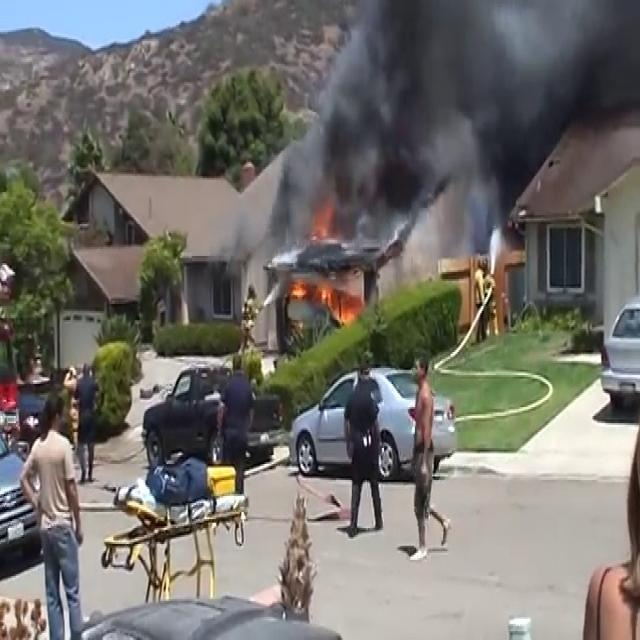Fire: (285, 268, 359, 324)
Smoke: (278, 0, 528, 265), (467, 0, 640, 168)
